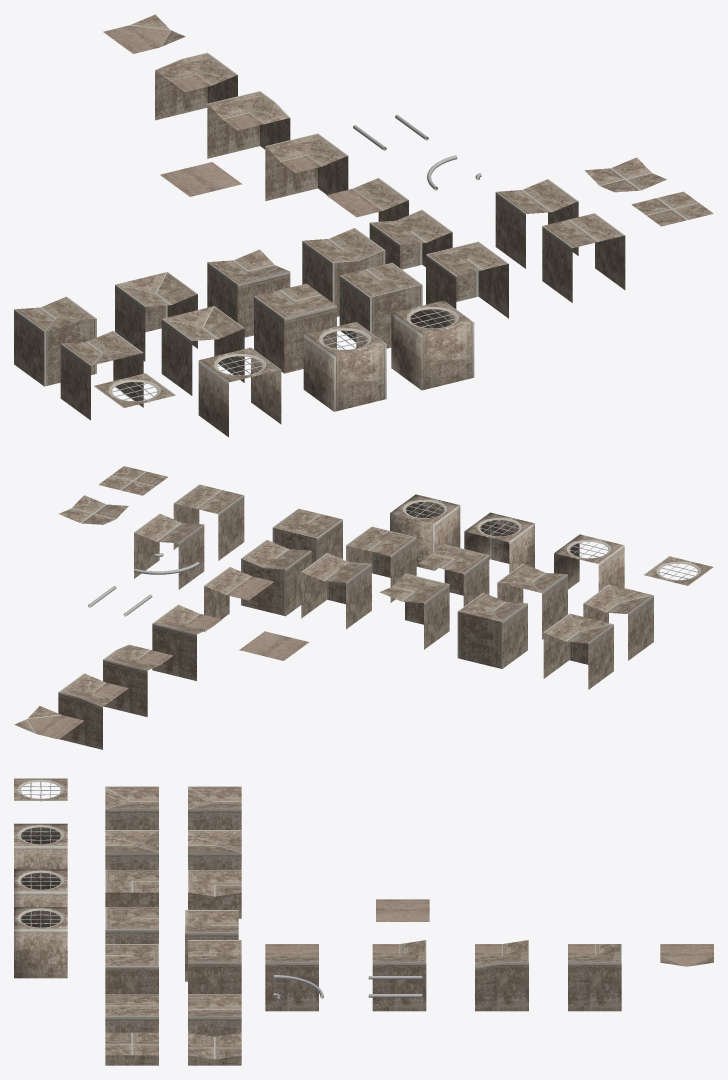
Rendered from Ballance_tileset_test.glb.
3 renders of one model, top to bottom at view 1: azimuth 30°, elevation 25°; view 2: azimuth 150°, elevation 25°; view 3: azimuth 270°, elevation 25°, orthographic. The views are drawn at different scales.
Visible parts, largest first — view 1: casing.col, casing.001.col, ground_flat_turn.col, ground_flattocurved_end.col, ground_flat.col, ground_flat_start.col, ground_flat_end.col, ground_curvedtoflat.col, ground2_turn.col, casing.002.col, Cube.007, ground_flattocurved.col (+12 smaller); view 2: ground_curvedtoflat_end.col, ground_flattocurved_end.col, ground_curved_start.col, ground_curved_end.col, casing.col, ground_curved.col, ground2_turn.col, casing.001.col, Cube.008, ground_flat.col, Cube.007, ground_curved_turn.col (+12 smaller); view 3: casing.col, Cube.007, Cube.008, ground2_side.col, ground2_turn.col, ground_curved_end.col, ground_flat_end.col, ground_flat.col, ground_curved.col, casing.002.col, ground_flattocurved.col, ground_flattocurved_end.col (+12 smaller).
Part boxes in pixels (x1,y1,x2,y2): casing.col: (391, 300, 474, 390); casing.001.col: (303, 322, 386, 411); ground_flat_turn.col: (254, 283, 336, 373); ground_flattocurved_end.col: (14, 296, 96, 386); ground_flat.col: (542, 213, 625, 302); ground_flat_start.col: (339, 262, 422, 348); ground_flat_end.col: (426, 241, 508, 318); ground_curvedtoflat.col: (161, 306, 244, 395); ground2_turn.col: (265, 133, 348, 200); casing.002.col: (198, 347, 281, 437); Cube.007: (207, 91, 290, 158); ground_flattocurved.col: (60, 330, 143, 420); ground_curvedtoflat_end.col: (457, 592, 527, 668); ground_flattocurved_end.col: (543, 613, 613, 689); ground_curved_start.col: (301, 553, 371, 629); ground_curved_end.col: (241, 540, 311, 616); casing.col: (390, 494, 460, 570); ground_curved.col: (134, 513, 204, 589); ground2_turn.col: (152, 604, 222, 680); casing.001.col: (464, 512, 534, 572); Cube.008: (58, 673, 128, 749); ground_flat.col: (173, 484, 244, 560); Cube.007: (103, 644, 173, 717); ground_curved_turn.col: (379, 573, 449, 649); casing.col: (14, 907, 67, 978); Cube.007: (475, 940, 528, 1011); Cube.008: (568, 944, 621, 1011); ground2_side.col: (265, 944, 318, 1011); ground2_turn.col: (372, 940, 426, 1011); ground_curved_end.col: (188, 940, 241, 994); ground_flat_end.col: (105, 944, 158, 994); ground_flat.col: (105, 994, 158, 1065); ground_curved.col: (188, 994, 241, 1065); casing.002.col: (14, 823, 67, 868); ground_flattocurved.col: (105, 786, 158, 829); ground_flattocurved_end.col: (188, 786, 241, 829).
Size of the model in its own units: 12.2 by 1.03 by 13.02.
Materials: 3 (2 with a texture image).
